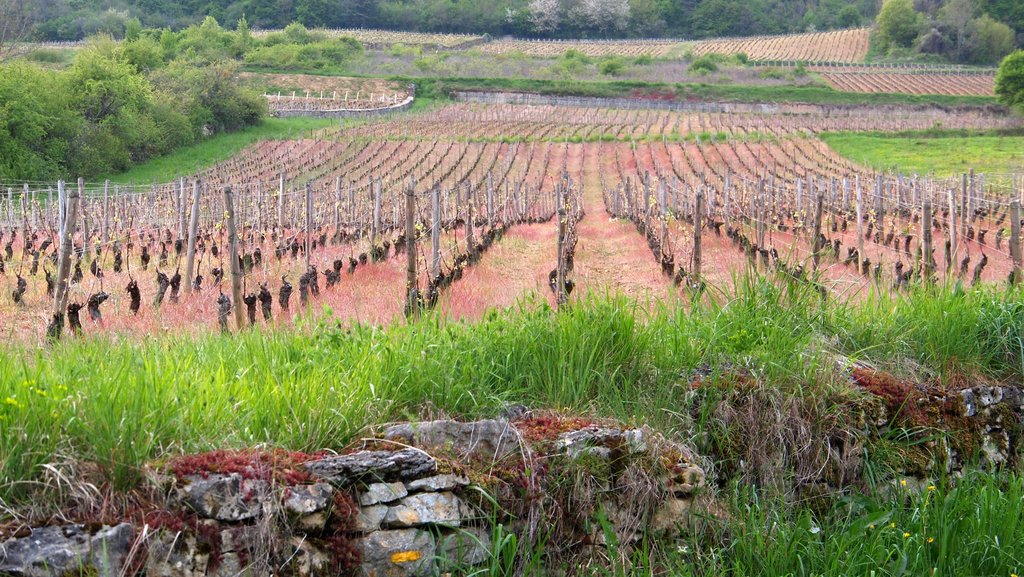Tree: (0, 12, 366, 186), (11, 0, 1024, 41), (873, 0, 1024, 61), (994, 48, 1024, 117)
